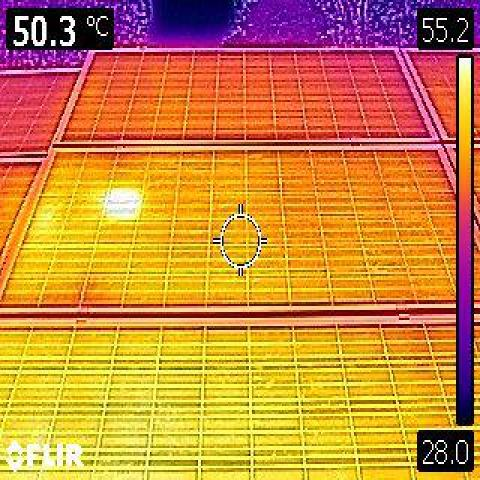fault: (108, 189, 136, 216)
